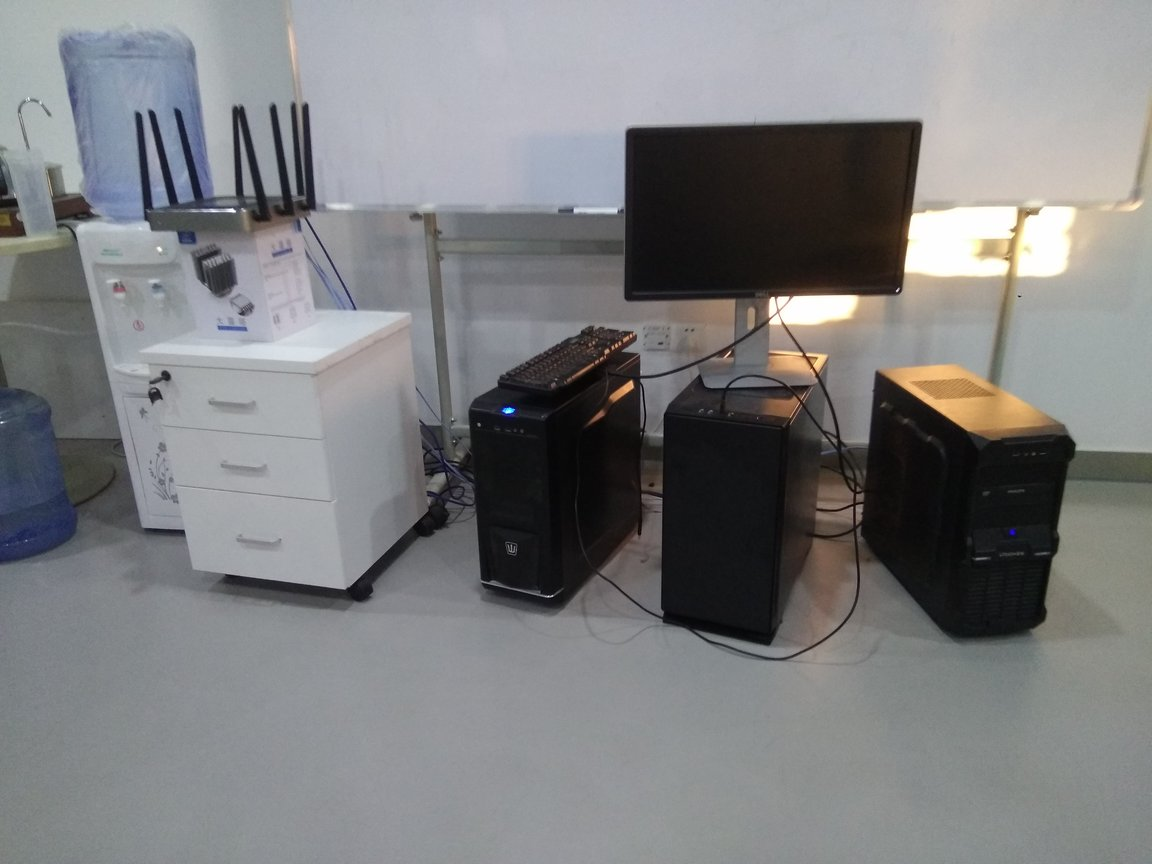computer: (870, 360, 1071, 656), (467, 346, 650, 631), (661, 347, 831, 650)
drawer chest: (147, 309, 433, 606)
monitor: (622, 118, 923, 403)
scuttlebutt: (53, 22, 222, 230), (1, 368, 85, 562)
water dispenser: (74, 210, 250, 547)
